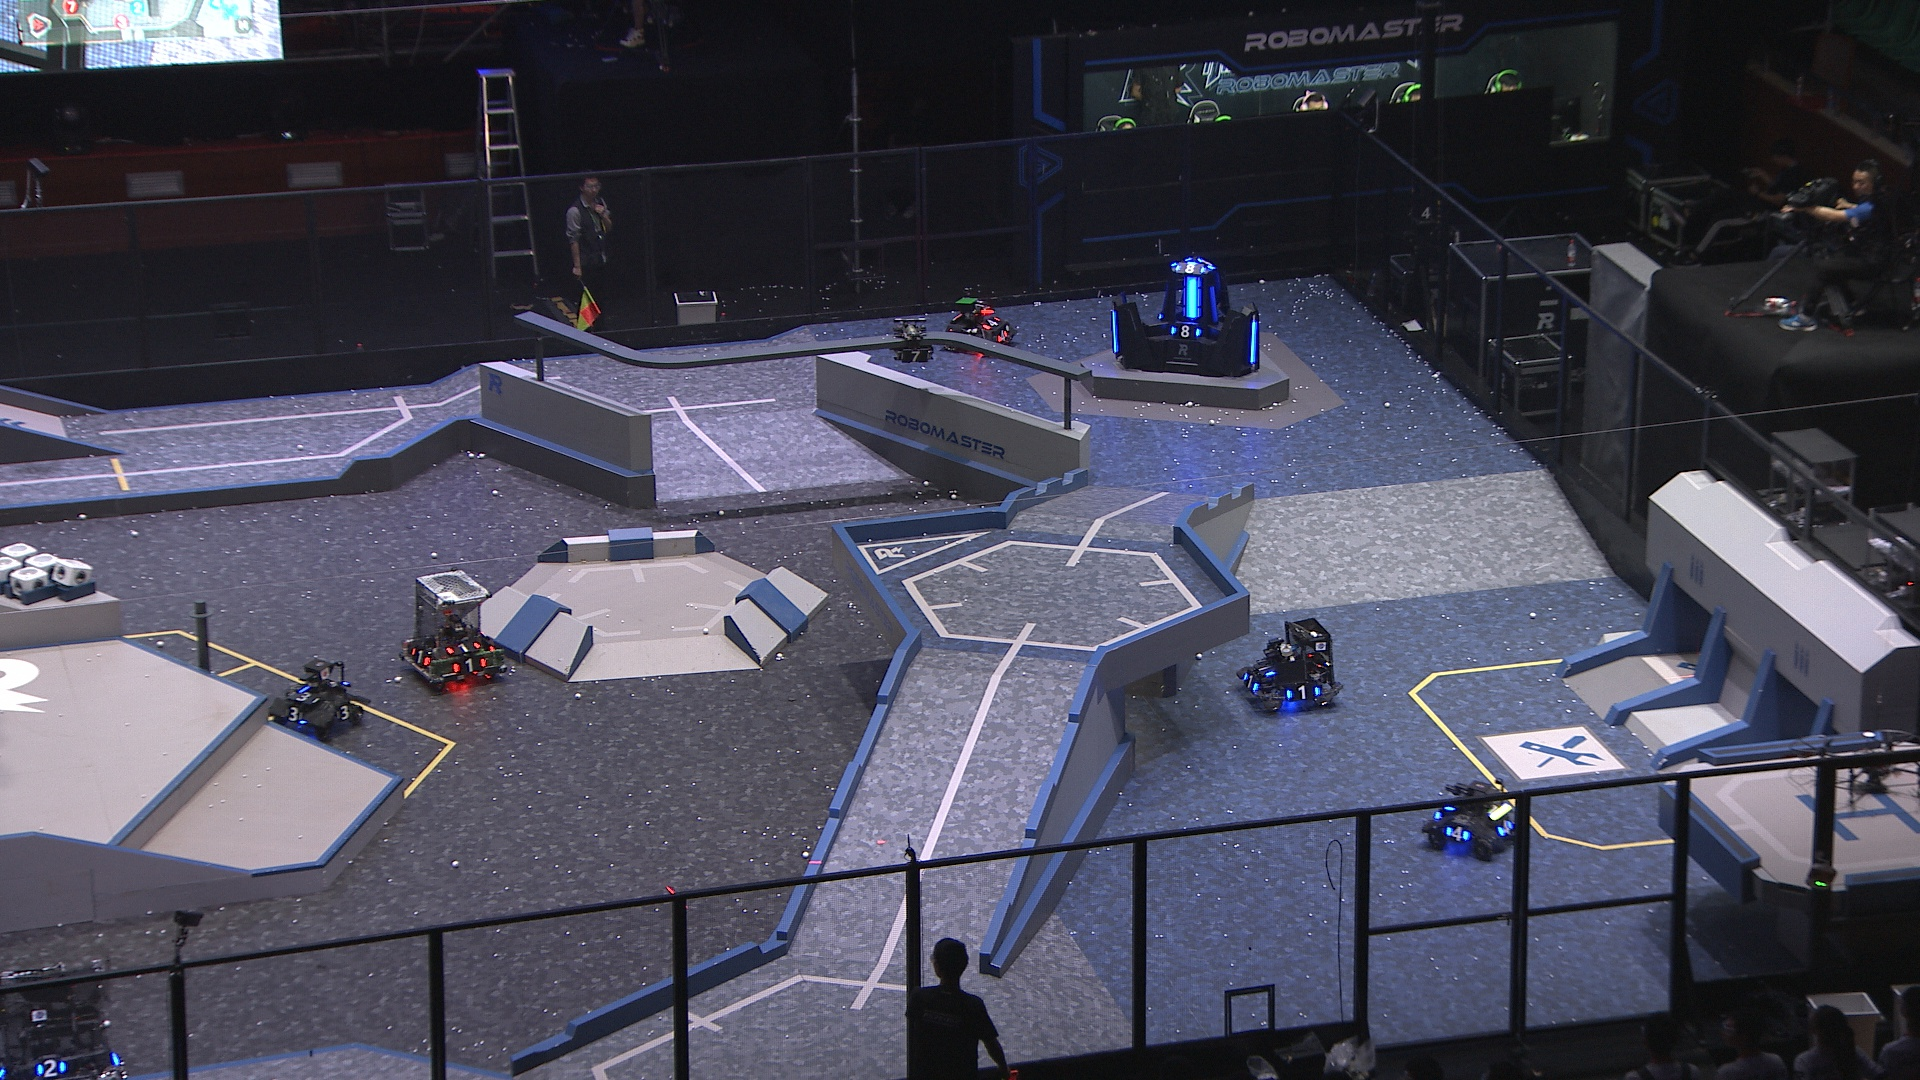armor: (1182, 277, 1204, 319), (36, 1059, 71, 1079), (442, 638, 483, 655), (897, 347, 931, 367), (451, 657, 487, 675), (1283, 684, 1320, 702), (1207, 284, 1222, 323), (1251, 655, 1276, 679), (1247, 322, 1262, 363), (289, 690, 323, 707), (1443, 823, 1472, 843), (1168, 323, 1201, 339), (409, 647, 433, 669), (1174, 261, 1207, 276), (1109, 310, 1120, 353), (334, 700, 353, 723), (1242, 671, 1261, 694), (281, 705, 305, 723), (1495, 818, 1515, 837), (981, 315, 1002, 334), (993, 328, 1011, 344)
base: (1102, 255, 1265, 378)
car: (400, 566, 510, 690), (1234, 615, 1346, 713), (266, 657, 367, 742), (1423, 775, 1524, 858), (944, 294, 1019, 361)
watcher: (889, 315, 936, 371)
